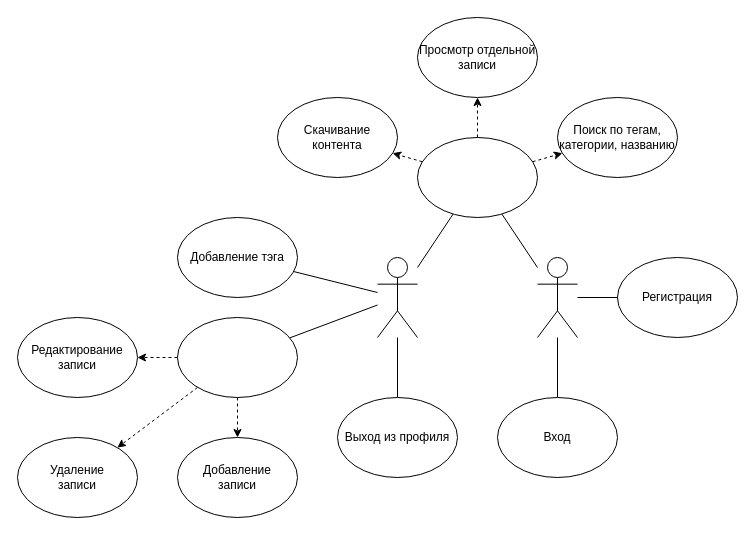
Some shapes in this 755 by 535 pixel diagram are drawn without their labels. The shapes that lost their labels are listed below. From the top down, each one's centre as x and y in pixels, then its label:
At pixel 477 177: "Просмотр контента".
At pixel 397 297: "Авторизованный пользователь".
At pixel 557 297: "Неавторизованный пользователь".
At pixel 237 357: "Управление записями".
